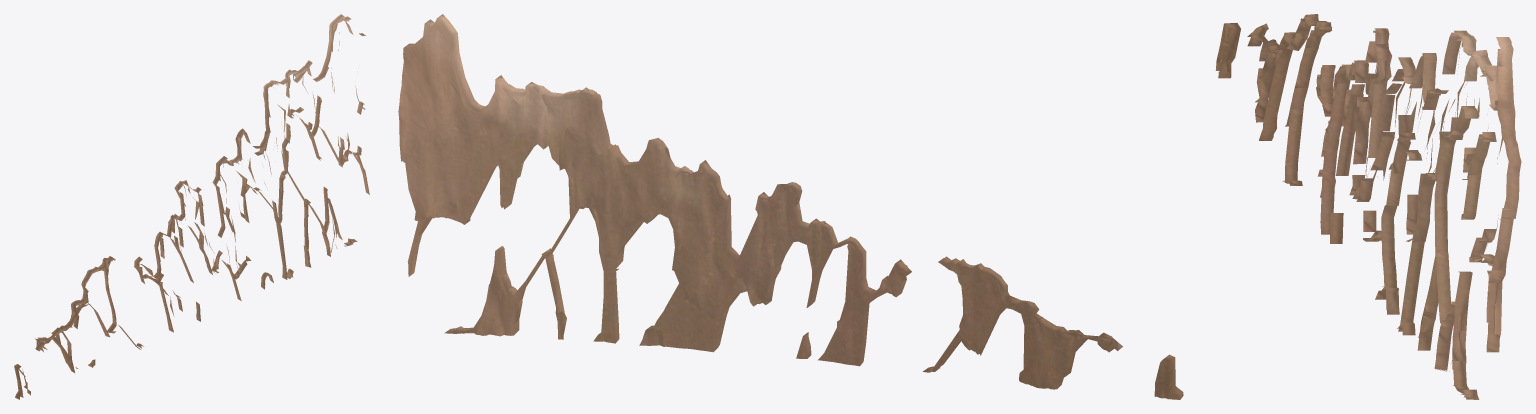
3 views of the same model, side by side, from view 1: azimuth 30°, elevation 25°; view 2: azimuth 150°, elevation 25°; view 3: azimuth 270°, elevation 25° (orthographic). The views are drawn at different scales.
Bounding box in the file's own units: 0.6441 × 0.3105 × 0.2418.
Materials: 1 (1 with a texture image).
